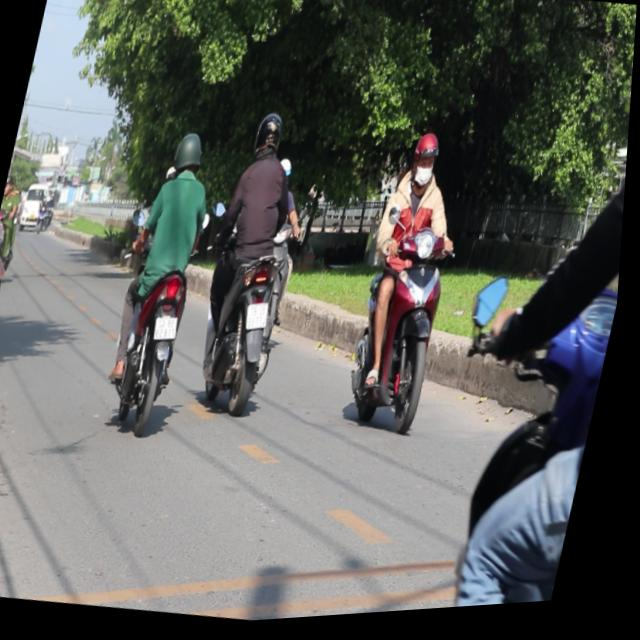helmet: (409, 135, 446, 195), (172, 130, 211, 182), (254, 110, 290, 164)
licenseplate: (436, 2, 638, 615), (336, 129, 487, 447), (185, 103, 333, 424), (98, 122, 234, 440)
nohelmet: (247, 301, 276, 335), (156, 314, 184, 345)
